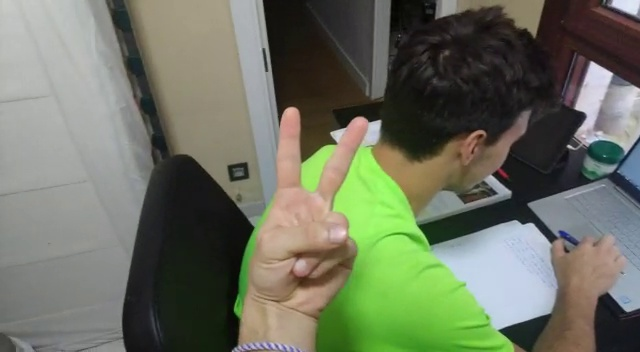Peace: (239, 106, 374, 305)
